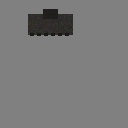armoured_vehicle: (28, 14, 73, 35)
